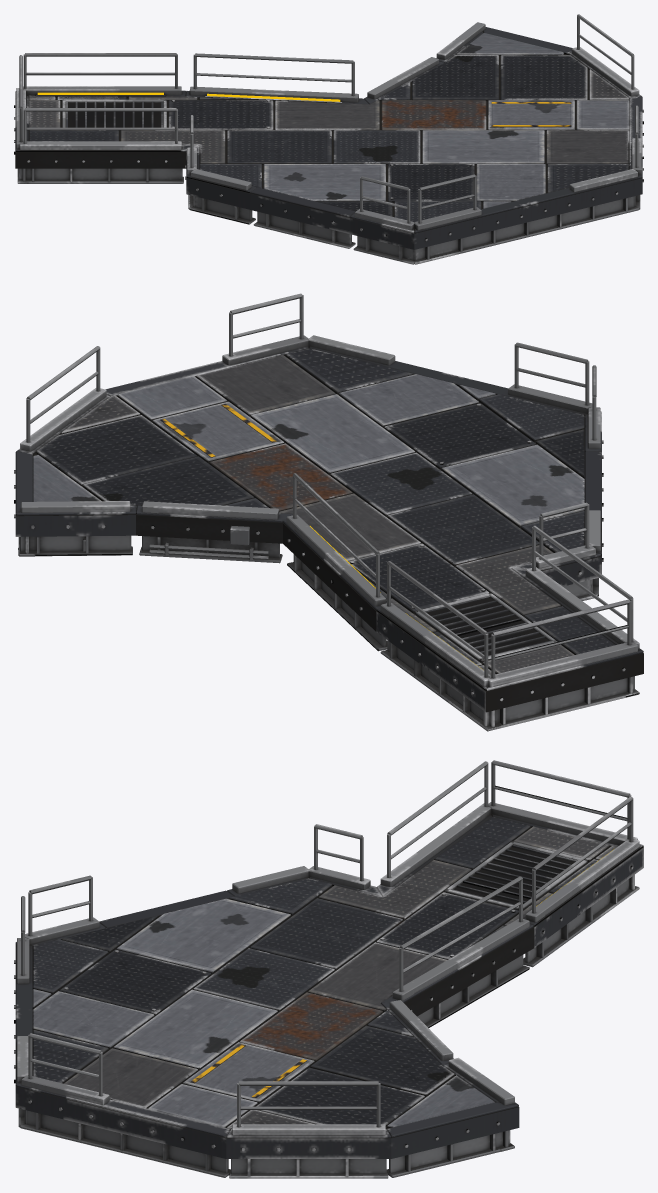
Rendered from nodexeus-set-deck-m9.glb.
3 renders of one model, top to bottom at view 1: azimuth 30°, elevation 25°; view 2: azimuth 150°, elevation 25°; view 3: azimuth 270°, elevation 25°, orthographic. The views are drawn at different scales.
Visible parts, largest first — view 1: set-deck-m9; view 2: set-deck-m9; view 3: set-deck-m9.
Part boxes in pixels (x1,y1,x2,y2): set-deck-m9: (14,14,643,264); set-deck-m9: (14,293,643,731); set-deck-m9: (14,760,643,1178).
Size of the model in its own units: 13.73 by 1.84 by 11.06.
Materials: 1 (1 with a texture image).
